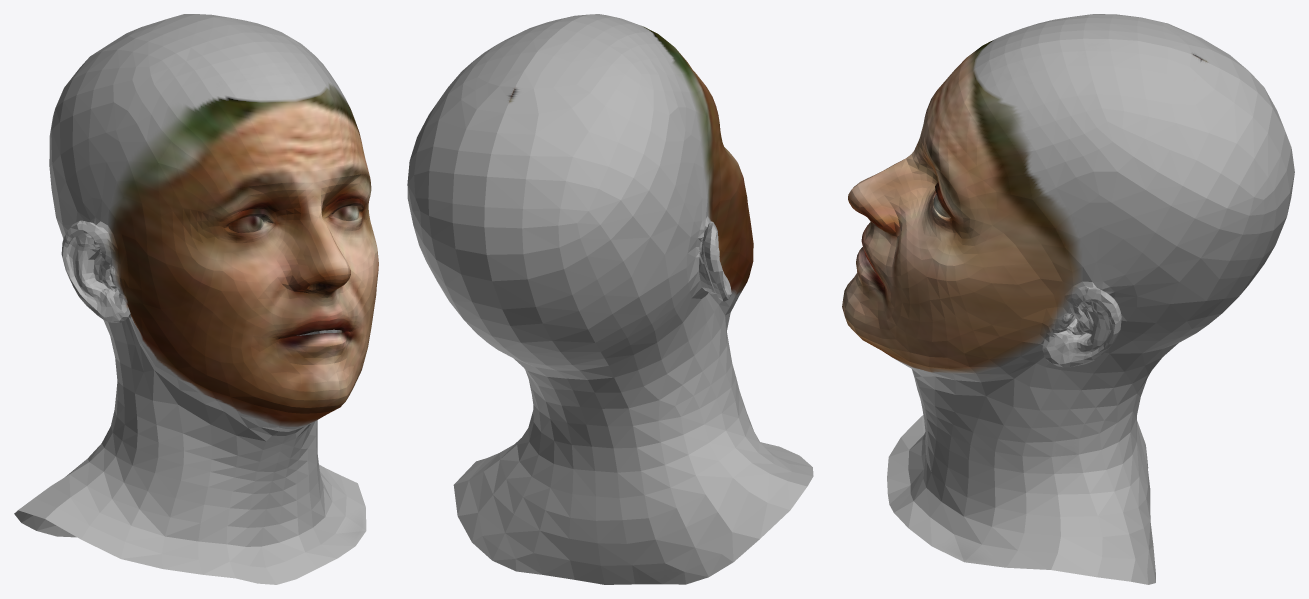
The model's file is alfw2.obj.
3 renders of one model, left to right at view 1: azimuth 30°, elevation 25°; view 2: azimuth 150°, elevation 25°; view 3: azimuth 270°, elevation 25°, orthographic. The views are drawn at different scales.
Size of the model in its own units: 0.2185 by 0.3178 by 0.2449.
Materials: 1 (1 with a texture image).
